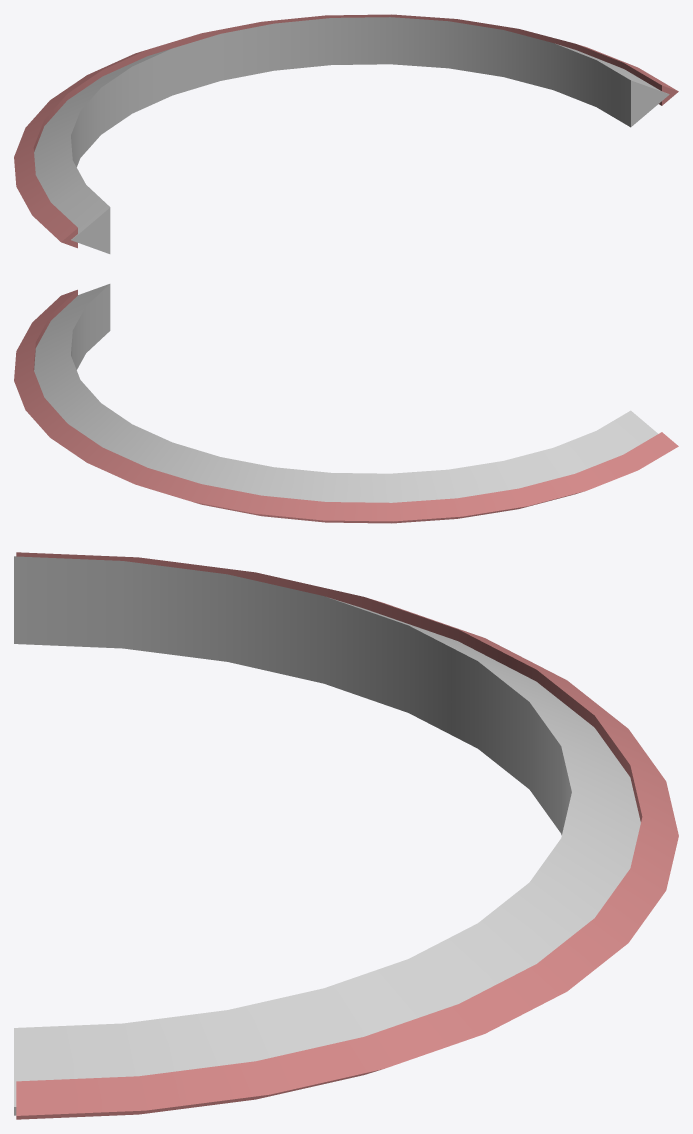
Rendered from headband.fbx.
The picture shows the model from 3 angles, top to bottom: view 1: azimuth 30°, elevation 25°; view 2: azimuth 150°, elevation 25°; view 3: azimuth 270°, elevation 25°; orthographic projection. The views are drawn at different scales.
Visible parts, largest first — view 1: Torus_2; view 2: Torus_2; view 3: Torus_2.
Boxes of the visible parts, bbox=[...] form: Torus_2: bbox=[14, 14, 678, 253]; Torus_2: bbox=[14, 284, 678, 523]; Torus_2: bbox=[14, 552, 678, 1119].
Bounding box in the file's own units: 380 × 27.71 × 191.
